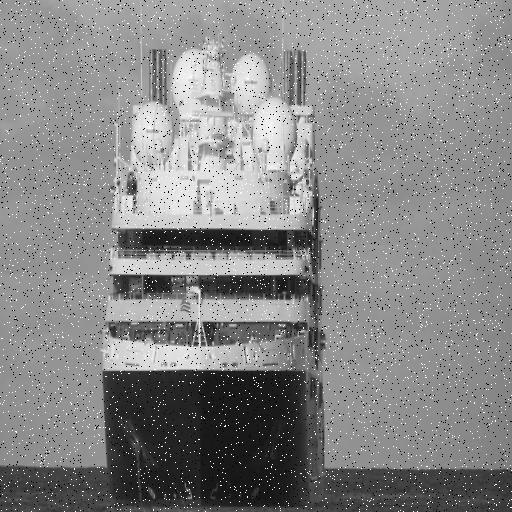cruises: (97, 32, 336, 512)
